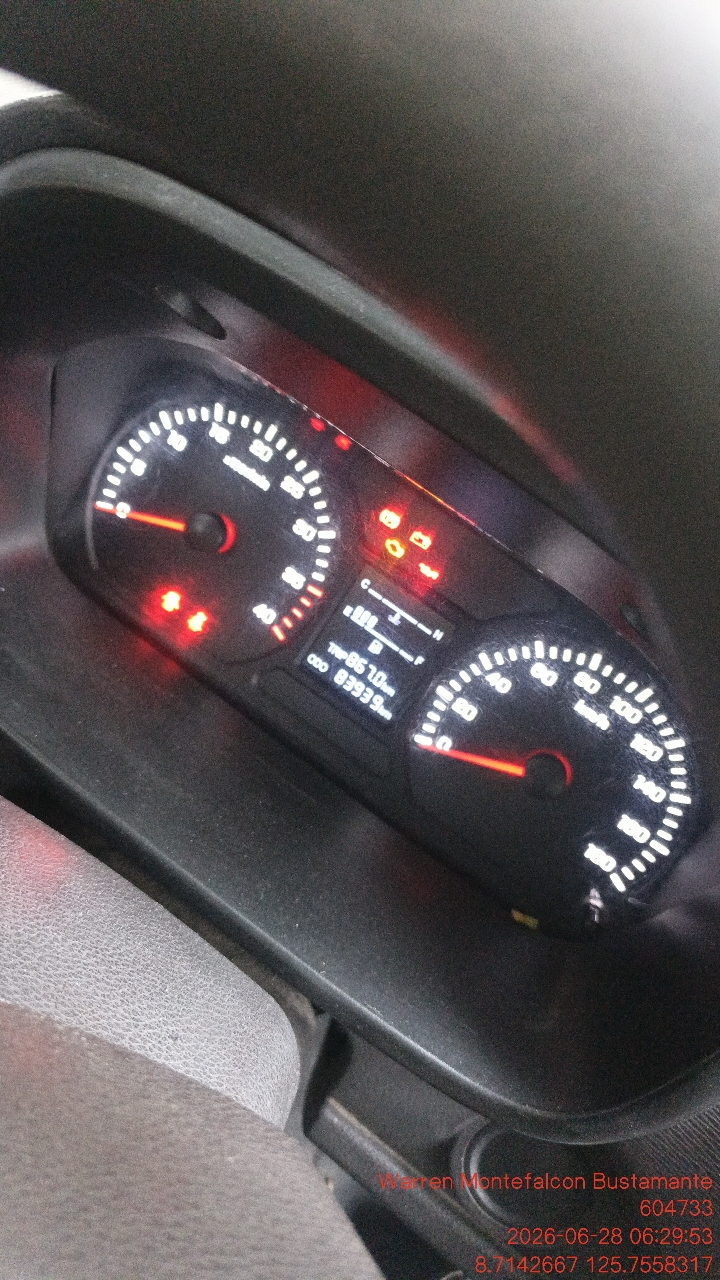grid_pose: (116, 97, 412, 661)
